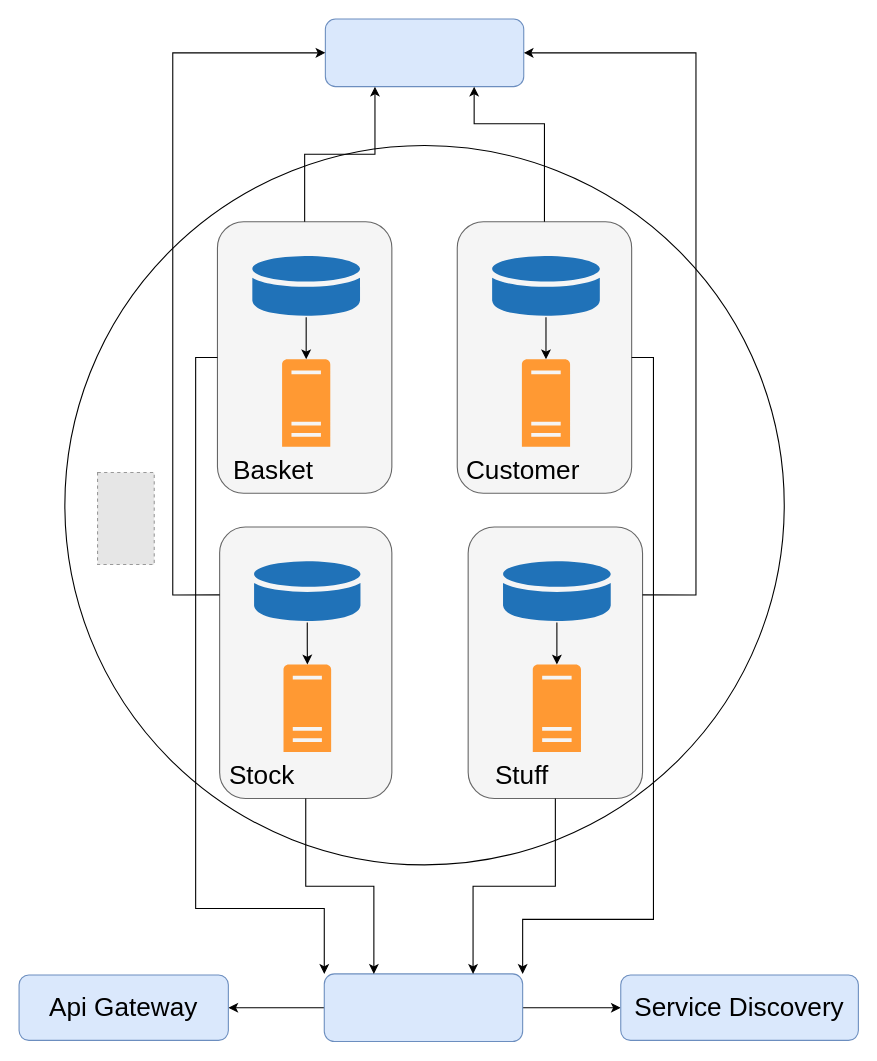
The diagram is 877 pixels wide and 1061 high, and some of its shapes have lost their labels. Grey dashed boxes stand in for pictures. The box of each missing label's shape, as (x1, y1, x2, y2) in pixels:
Config Server: (324, 18, 524, 87)
Load Balancer: (323, 973, 523, 1041)
